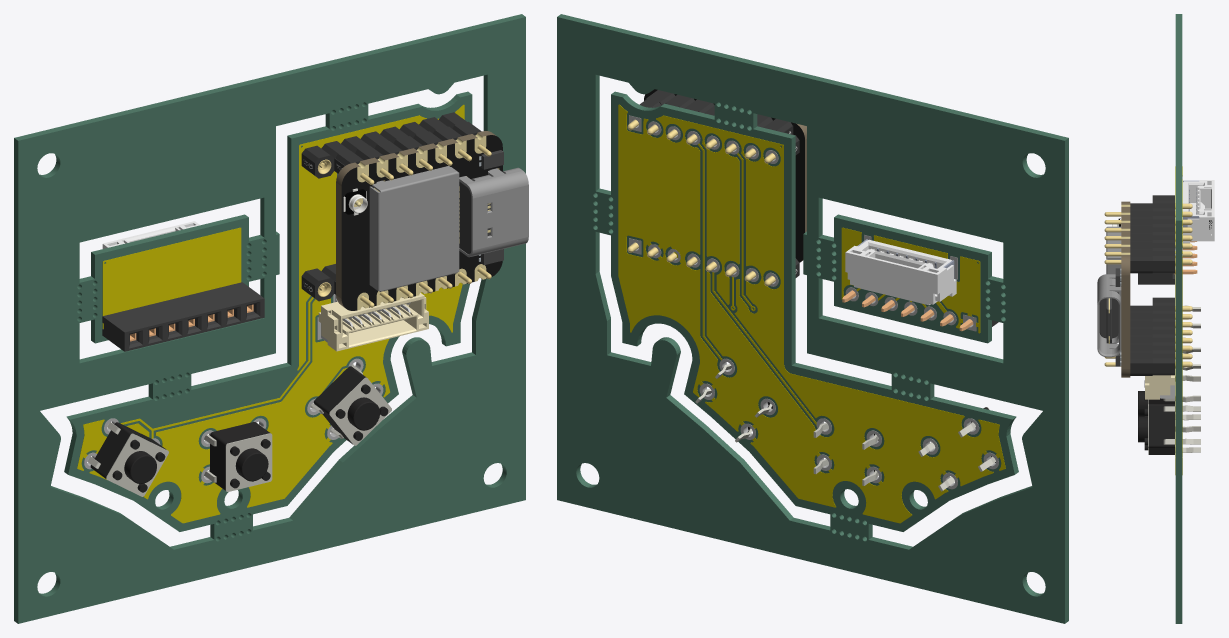
File: pet-panel.glb
The picture shows the model from 3 angles, left to right: view 1: azimuth 30°, elevation 25°; view 2: azimuth 150°, elevation 25°; view 3: azimuth 270°, elevation 25°; orthographic projection. The views are drawn at different scales.
Parts seen in each view (by area): view 1: o1.17, o1.14, o1.7.1.1.2, o1.7.1.1.6, o1.4.1, o1.7.1.1.1.1.19, o1.1.1, o1.5.1, o1.9.1, o1.12.1, o1.11.1, o1.6.1 (+4 smaller); view 2: o1.17, o1.14, o1.13.1, o1.15, o1.7.1.1.6, o1.11.1, o1.6.1, o1.10.1, o1.4.1; view 3: o1.17, o1.10.1, o1.11.1, o1.9.1, o1.13.1, o1.7.1.1.6, o1.6.1, o1.7.1.1.1.1.19, o1.3.1, o1.8.1, o1.5.1, o1.1.1 (+7 smaller).
Part boxes in pixels (<box>): o1.17: <box>14,14,525,623</box>; o1.14: <box>77,104,464,523</box>; o1.7.1.1.2: <box>369,166,459,291</box>; o1.7.1.1.6: <box>336,131,502,310</box>; o1.4.1: <box>102,282,264,351</box>; o1.7.1.1.1.1.19: <box>459,167,528,257</box>; o1.1.1: <box>318,293,428,351</box>; o1.5.1: <box>204,422,272,491</box>; o1.9.1: <box>310,364,391,445</box>; o1.12.1: <box>87,422,168,496</box>; o1.11.1: <box>301,112,466,178</box>; o1.6.1: <box>393,121,491,170</box>; o1.17: <box>557,14,1068,623</box>; o1.14: <box>618,104,1005,523</box>; o1.13.1: <box>845,239,956,305</box>; o1.15: <box>629,115,998,489</box>; o1.7.1.1.6: <box>644,89,806,262</box>; o1.11.1: <box>627,99,799,163</box>; o1.6.1: <box>644,90,714,115</box>; o1.10.1: <box>627,242,799,286</box>; o1.4.1: <box>842,290,998,331</box>; o1.17: <box>1175,14,1182,623</box>; o1.10.1: <box>1152,297,1192,375</box>; o1.11.1: <box>1152,195,1192,272</box>; o1.9.1: <box>1138,404,1200,454</box>; o1.13.1: <box>1183,180,1214,243</box>; o1.7.1.1.6: <box>1121,201,1130,377</box>; o1.6.1: <box>1104,226,1152,273</box>; o1.7.1.1.1.1.19: <box>1097,274,1121,357</box>; o1.3.1: <box>1104,329,1152,375</box>; o1.8.1: <box>1104,203,1152,232</box>; o1.5.1: <box>1138,375,1200,432</box>; o1.1.1: <box>1145,375,1174,399</box>.
Bounding box in the file's own units: 0.066 × 0.06 × 0.0158.
